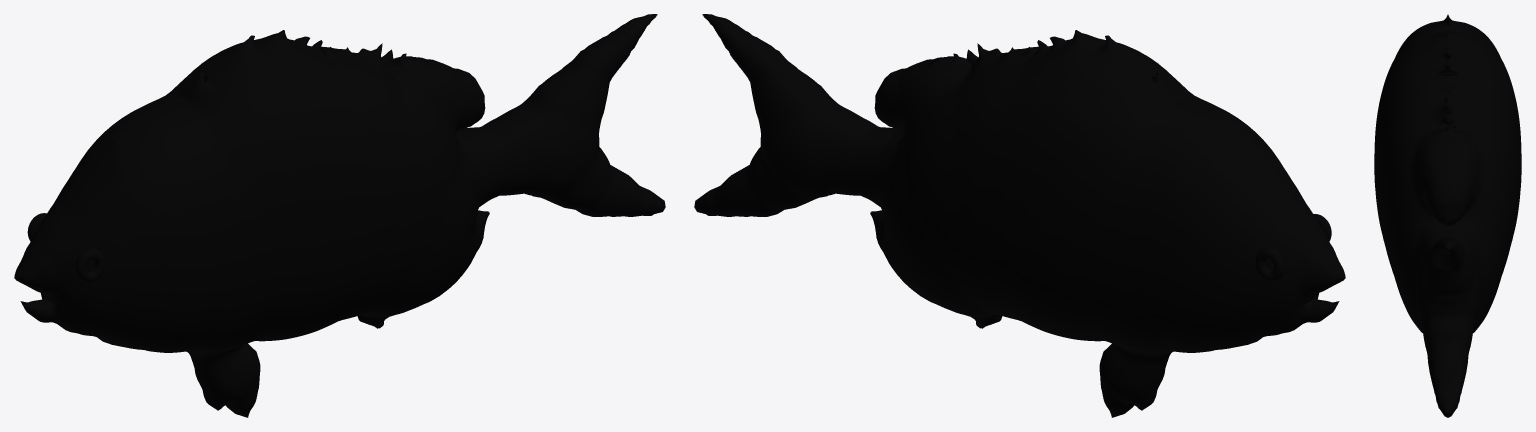
Rendered from G11_InaamFinalFish.fbx.
The picture shows the model from 3 angles, left to right: view 1: azimuth 30°, elevation 25°; view 2: azimuth 150°, elevation 25°; view 3: azimuth 270°, elevation 25°; orthographic projection. The views are drawn at different scales.
Parts seen in each view (by area): view 1: node_id55, node_id58; view 2: node_id55 (×2); view 3: node_id55.
Boxes of the visible parts, box(x1,y1,x2,y2) form: node_id55: box(14, 14, 665, 417); node_id58: box(75, 248, 104, 282); node_id55 (×2): box(694, 14, 1345, 417); node_id55: box(1374, 14, 1521, 417).
Size of the model in its own units: 1.48 by 0.8298 by 0.3448.
Materials: 2 (1 with a texture image).
